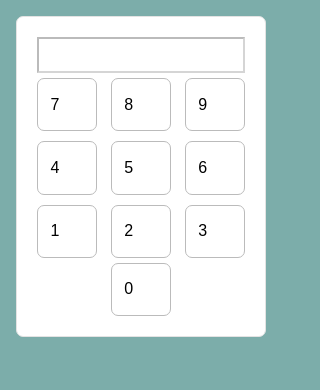
Test: check if entering the wrong value shows an error message
Click the button with test id "button-1".
click(67, 231)  # box [37, 204, 97, 258]
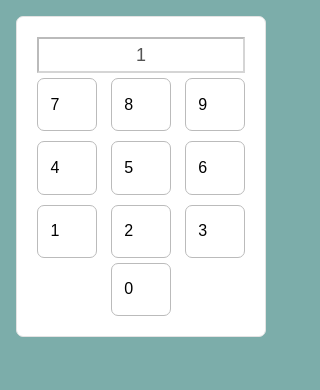
Click the button with test id "button-1".
click(67, 231)  # box [37, 204, 97, 258]
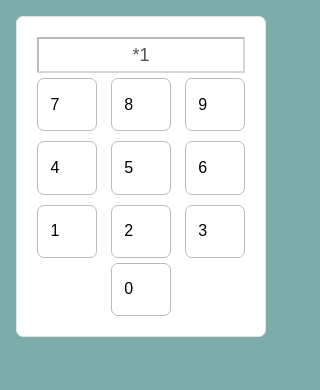
Click the button with test id "button-1".
click(67, 231)  # box [37, 204, 97, 258]
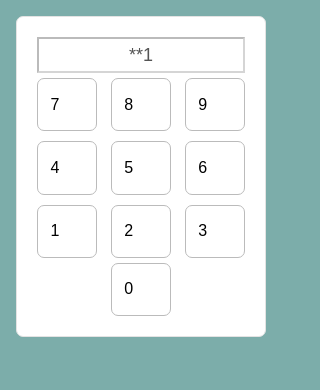
Click the button with test id "button-1".
click(67, 231)  # box [37, 204, 97, 258]
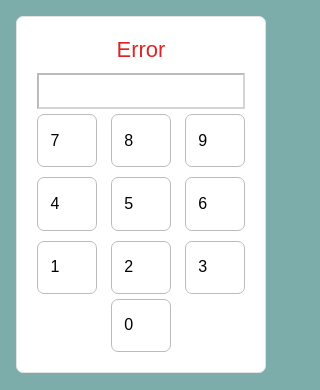
Check: the text "Error" is shown, box [116, 37, 165, 62]
